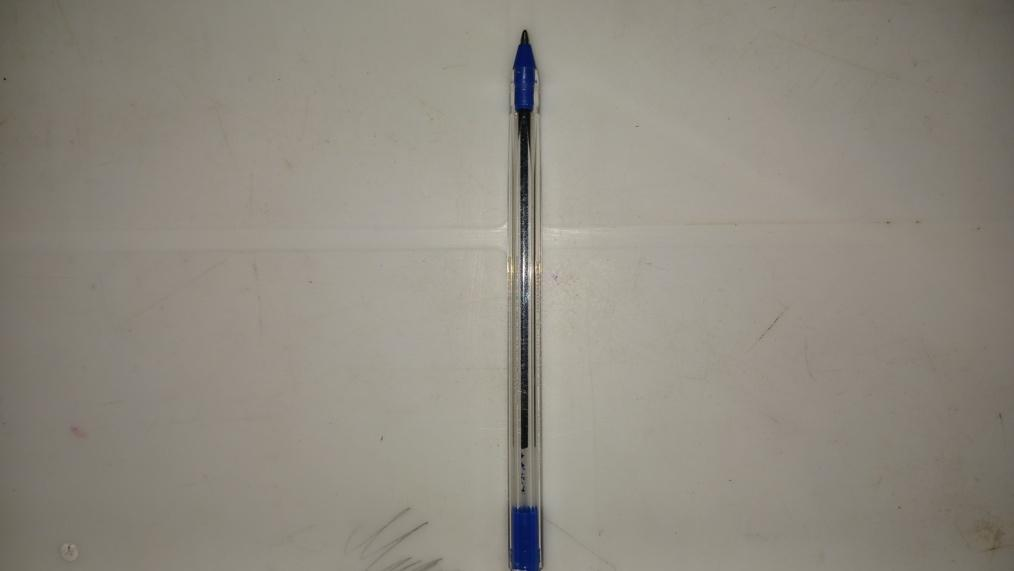pen: (507, 27, 543, 571)
